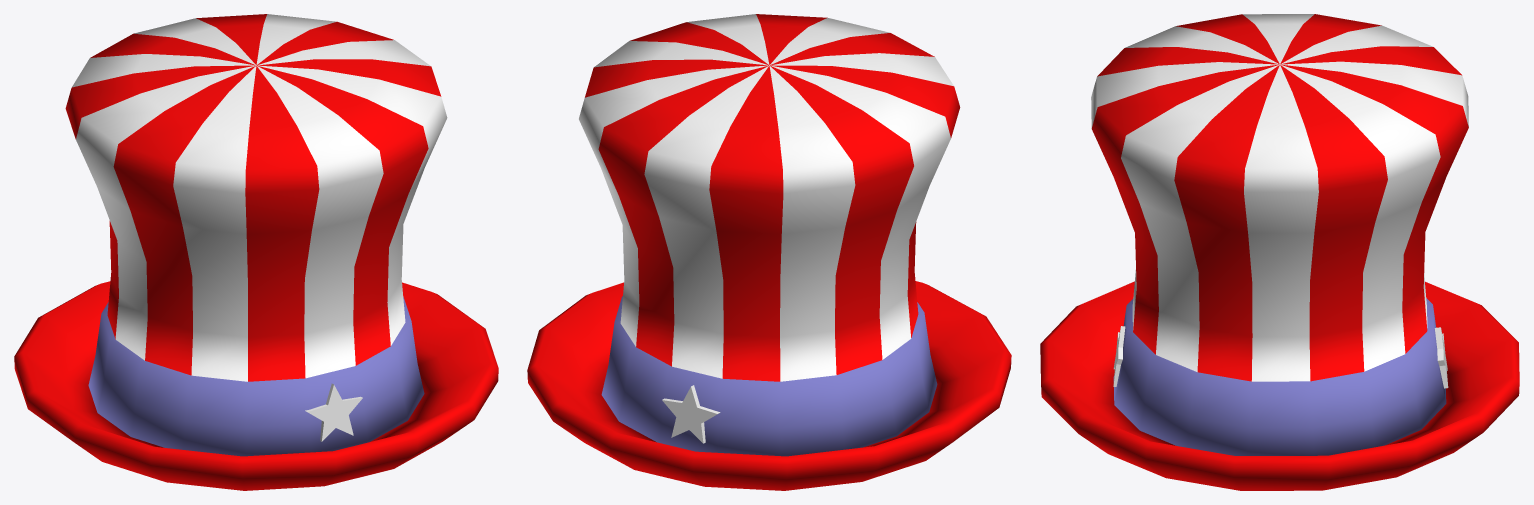
The model's file is item-uncie-sam-het.glb.
3 views of the same model, side by side, from view 1: azimuth 30°, elevation 25°; view 2: azimuth 150°, elevation 25°; view 3: azimuth 270°, elevation 25° (orthographic).
Bounding box in the file's own units: 2.71 × 2.28 × 2.71.
